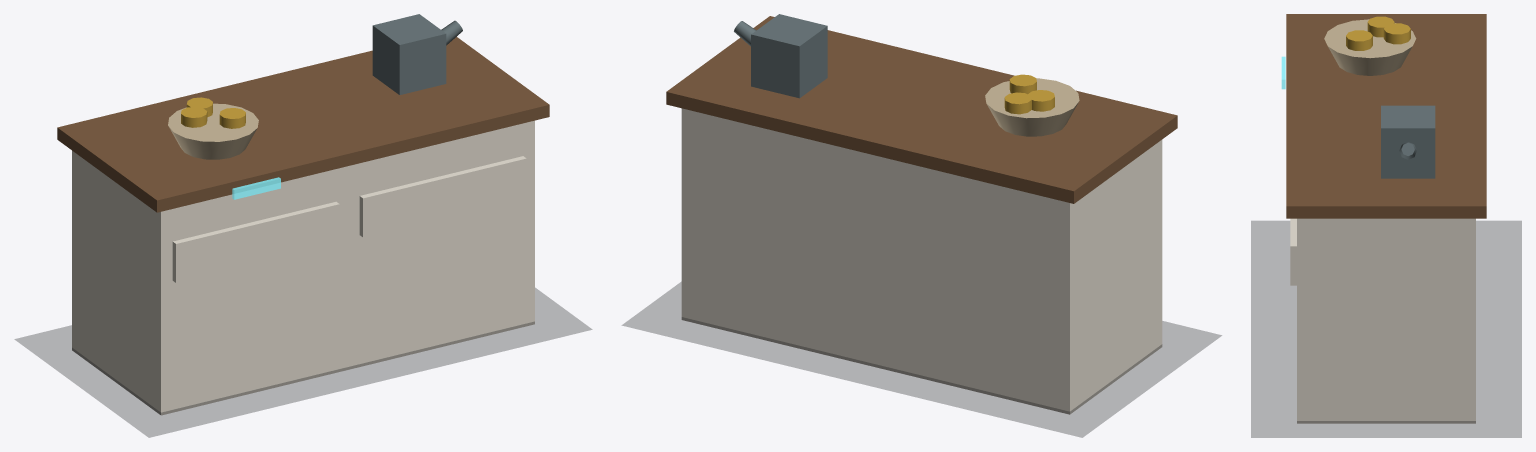
File: hp_room_rm_home_kitchen_fake.glb
3 renders of one model, left to right at view 1: azimuth 30°, elevation 25°; view 2: azimuth 150°, elevation 25°; view 3: azimuth 270°, elevation 25°, orthographic. The views are drawn at different scales.
Parts seen in each view (by area): view 1: counter_body, counter_top, contact_shadow, drawer_face_a, drawer_face_b, kettle_body, fruit_bowl, glued_label; view 2: counter_body, counter_top, contact_shadow, kettle_body, fruit_bowl; view 3: counter_body, counter_top, contact_shadow, kettle_body, fruit_bowl, fruit_-0.42_-0.04, fruit_-0.36_0.1, drawer_face_b, fruit_-0.48_0.02.
Boxes of the visible parts, left/top/right/bottom form: counter_body: left=72, top=120, right=534, bottom=415; counter_top: left=57, top=36, right=549, bottom=212; contact_shadow: left=15, top=288, right=591, bottom=437; drawer_face_a: left=172, top=201, right=339, bottom=282; drawer_face_b: left=359, top=156, right=526, bottom=237; kettle_body: left=372, top=14, right=446, bottom=94; fruit_bowl: left=168, top=103, right=258, bottom=159; glued_label: left=232, top=177, right=280, bottom=199; counter_body: left=681, top=108, right=1162, bottom=414; counter_top: left=666, top=16, right=1177, bottom=203; contact_shadow: left=622, top=282, right=1221, bottom=437; kettle_body: left=751, top=14, right=827, bottom=98; fruit_bowl: left=985, top=78, right=1079, bottom=136; counter_body: left=1297, top=218, right=1475, bottom=423; counter_top: left=1286, top=14, right=1486, bottom=218; contact_shadow: left=1251, top=221, right=1521, bottom=437; kettle_body: left=1381, top=105, right=1435, bottom=178; fruit_bowl: left=1324, top=19, right=1416, bottom=75; fruit_-0.42_-0.04: left=1383, top=23, right=1410, bottom=44; fruit_-0.36_0.1: left=1346, top=30, right=1372, bottom=50; drawer_face_b: left=1290, top=218, right=1296, bottom=285; fruit_-0.48_0.02: left=1367, top=16, right=1394, bottom=37.
Bounding box in the file's own units: 1.9 × 1.11 × 1.
